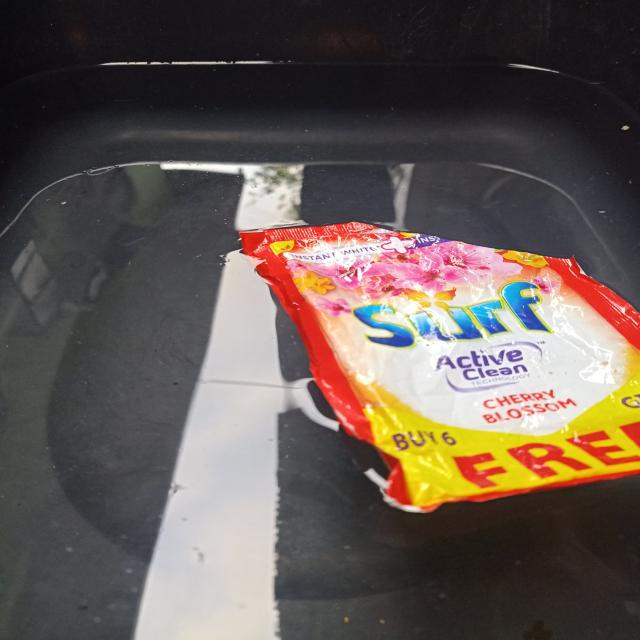Plastic Wrapper: (241, 223, 640, 511)
